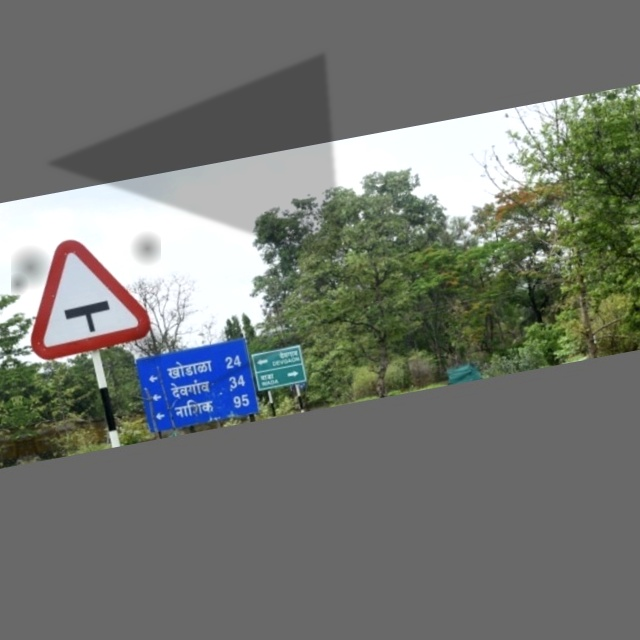T_Intersection: (11, 225, 161, 373)
